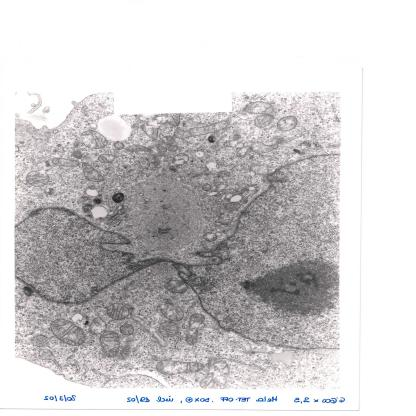mitochondria: (50, 318, 86, 347), (174, 120, 229, 138), (156, 360, 205, 376), (184, 313, 206, 346), (100, 331, 120, 358), (158, 302, 185, 322), (80, 131, 108, 149), (82, 162, 105, 183), (243, 102, 274, 116), (106, 303, 130, 321), (26, 170, 52, 186), (164, 280, 189, 294), (276, 116, 298, 131), (158, 322, 178, 338), (116, 343, 133, 361), (88, 318, 107, 334), (51, 157, 81, 166), (206, 358, 228, 370), (254, 116, 274, 128), (30, 335, 49, 347), (172, 153, 189, 166), (236, 146, 253, 157), (119, 324, 134, 336), (98, 153, 116, 163), (222, 140, 244, 148), (203, 232, 217, 242), (226, 202, 241, 211), (161, 136, 175, 145), (201, 184, 212, 191)
